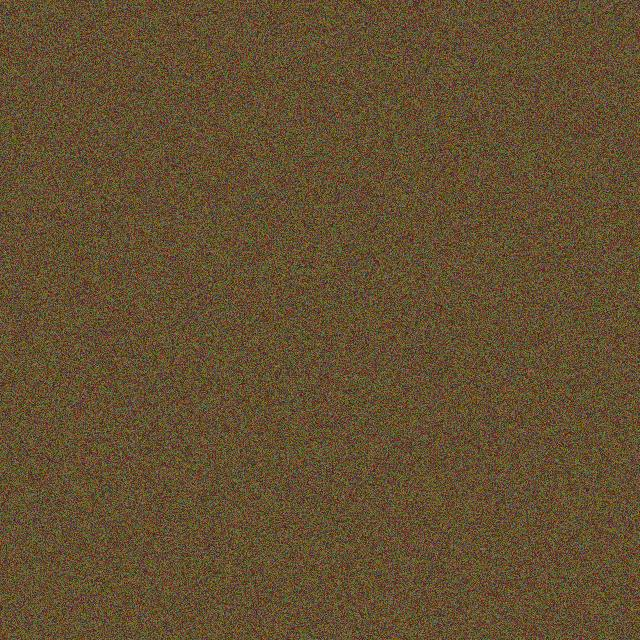human: (283, 177, 334, 260)
